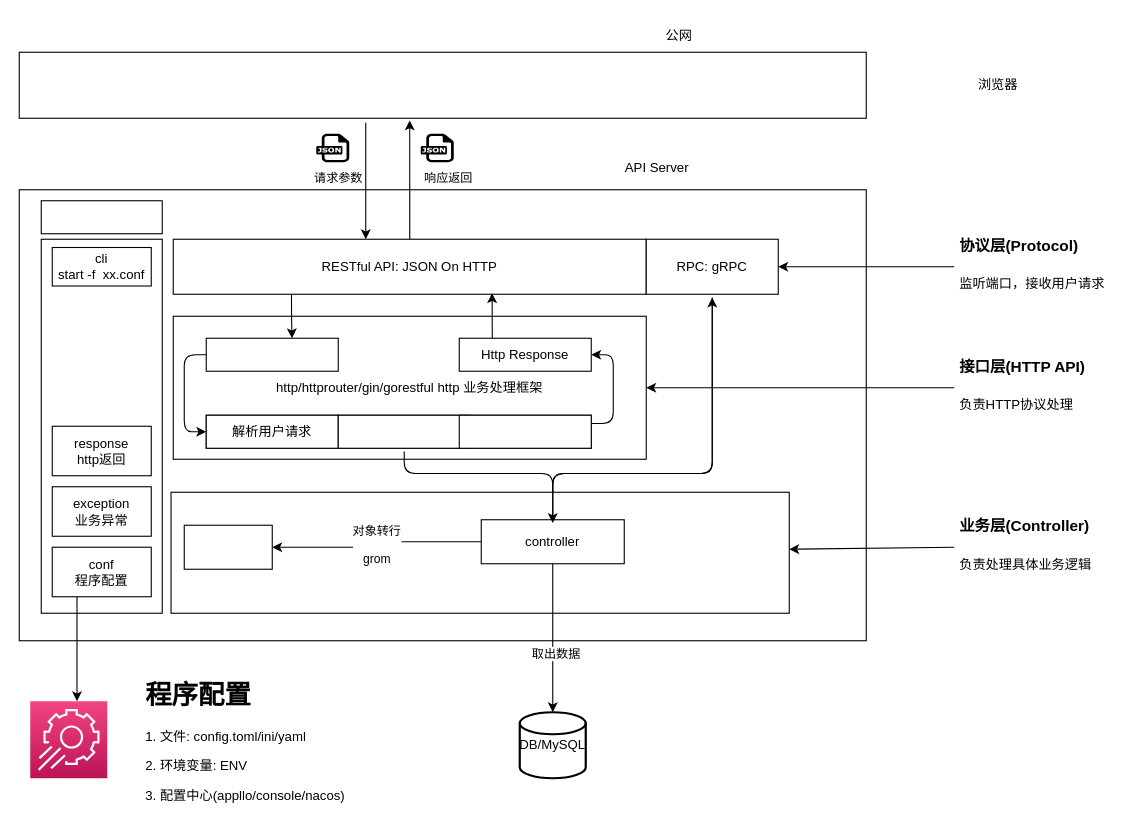
Some shapes in this 1139 by 824 pixel diagram are drawn without their labels. The shapes that lost their labels are listed below. From the top down, each one's box as (x1, y1, x2, y2) in pixels, then its label:
(40, 200, 162, 234): 程序入口
(205, 337, 338, 371): Http Request
(337, 414, 470, 448): 业务逻辑处理
(458, 414, 591, 448): 返回处理结果
(183, 524, 272, 569): model
